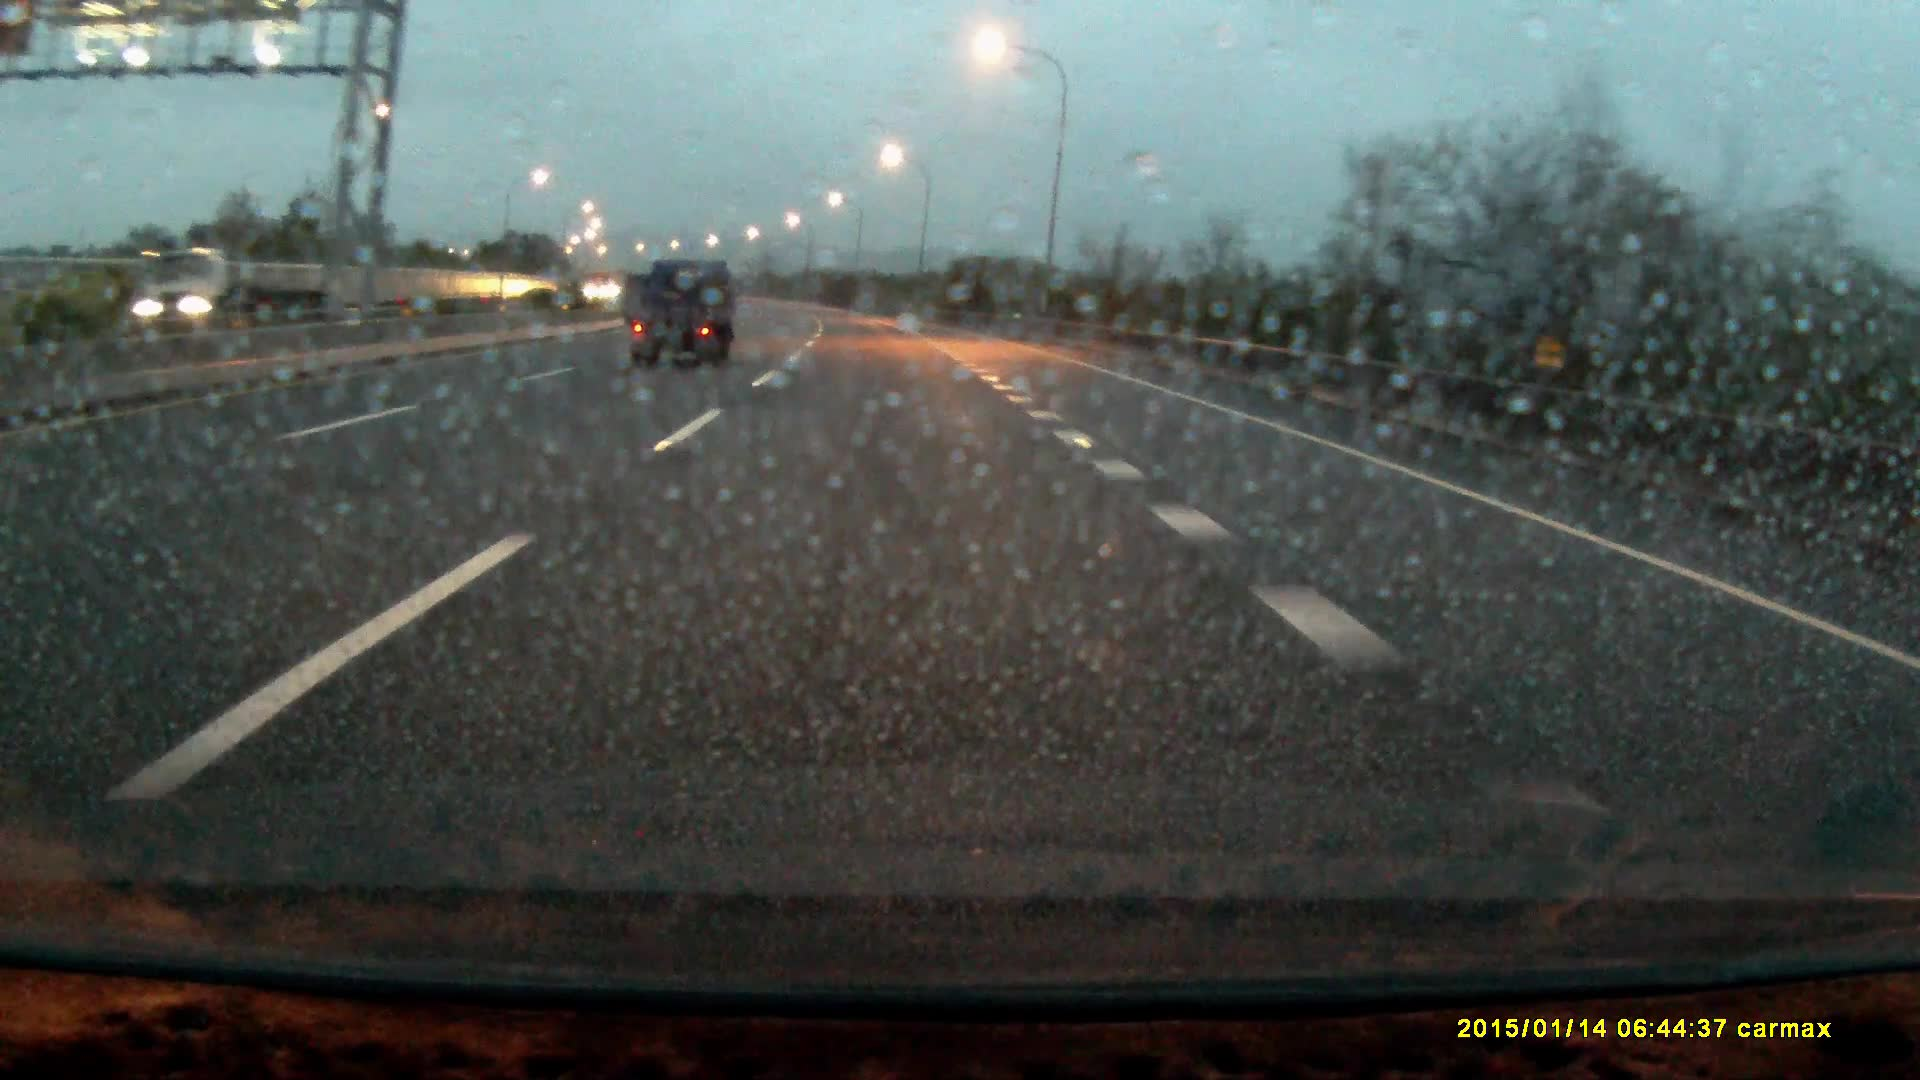vehicle: (109, 251, 306, 324), (629, 262, 738, 375)
